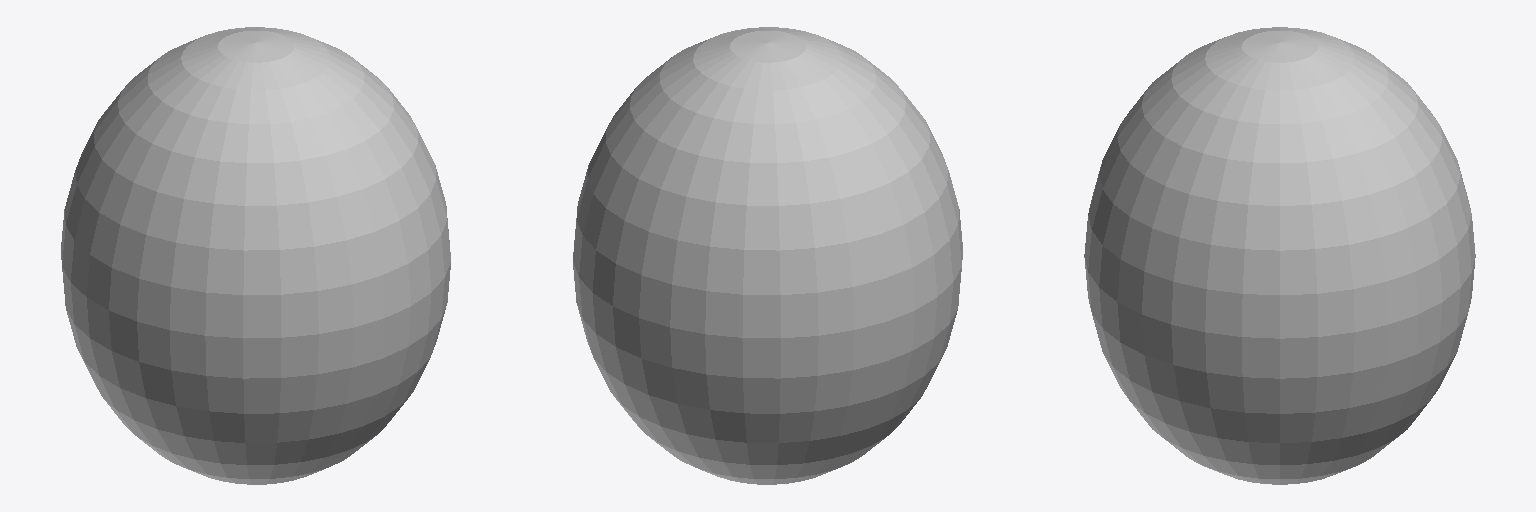
The model's file is egg1.obj.
3 views of the same model, side by side, from view 1: azimuth 30°, elevation 25°; view 2: azimuth 150°, elevation 25°; view 3: azimuth 270°, elevation 25° (orthographic).
Visible parts, largest first — view 1: Sphere; view 2: Sphere; view 3: Sphere.
Part boxes in pixels (bbox=[...]): Sphere: bbox=[61, 27, 450, 484]; Sphere: bbox=[573, 27, 962, 484]; Sphere: bbox=[1084, 27, 1475, 484].
Size of the model in its own units: 2 by 2.41 by 2.